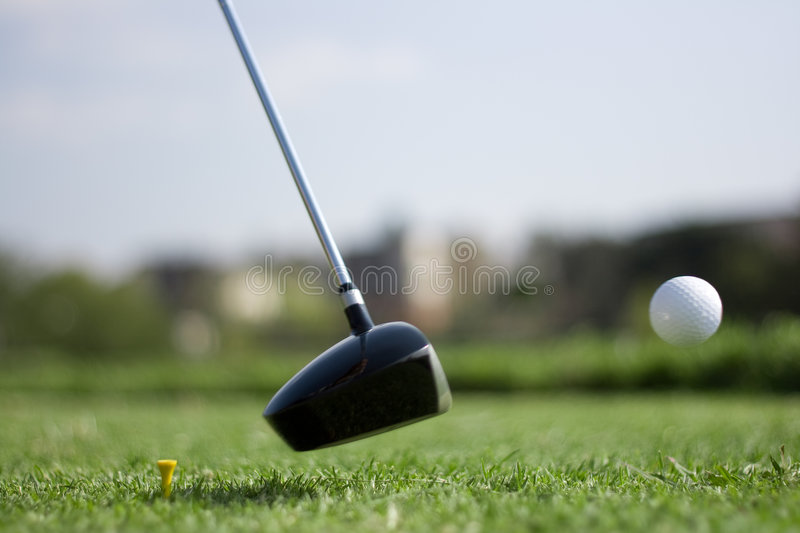golfball: (646, 272, 725, 349)
